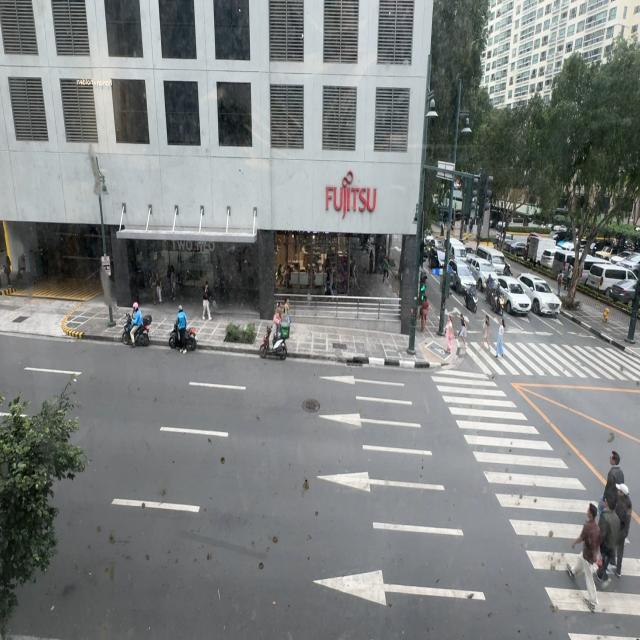crossing: (568, 493, 600, 608), (608, 474, 632, 570), (600, 490, 617, 586), (604, 452, 621, 482), (457, 315, 468, 357), (494, 318, 505, 359), (444, 311, 454, 354), (480, 315, 491, 351)
pedestrain: (199, 280, 218, 323), (175, 304, 188, 352), (2, 249, 16, 289), (276, 294, 294, 323), (18, 244, 28, 294), (557, 271, 562, 298), (568, 264, 573, 290), (451, 218, 455, 232)
